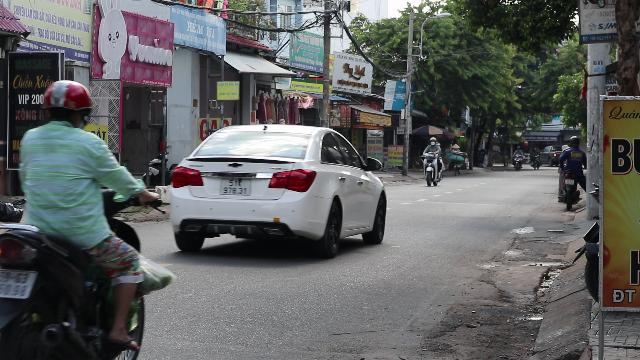helmet: (40, 78, 94, 127)
licenseplate: (1, 270, 36, 298)
motorcyclist: (1, 76, 173, 356)
